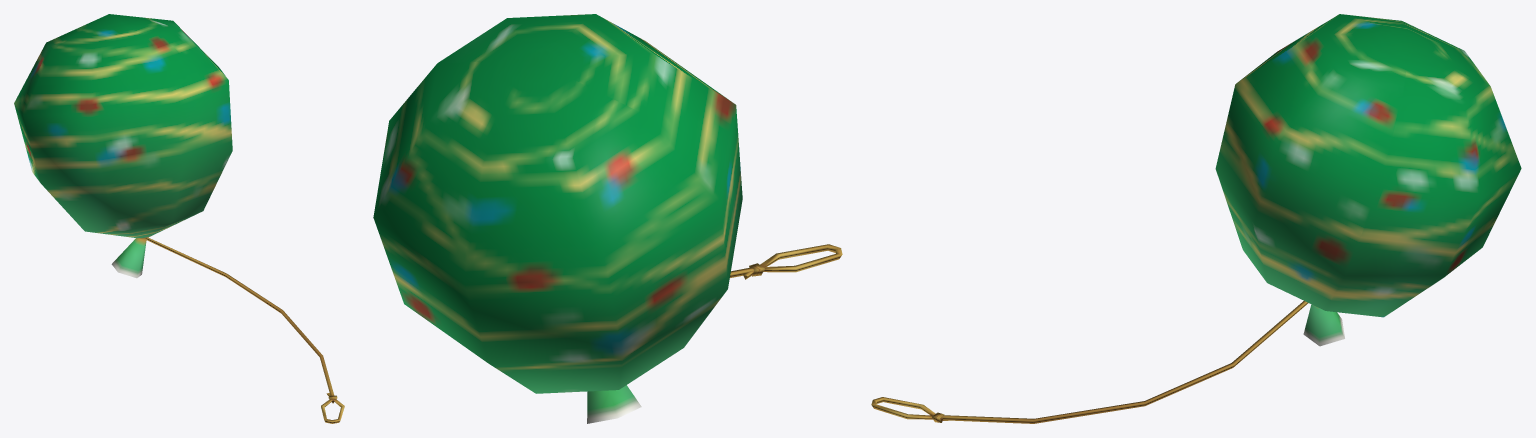
File: jsf_WaterBalloon_05_e.fbx
3 views of the same model, side by side, from view 1: azimuth 30°, elevation 25°; view 2: azimuth 150°, elevation 25°; view 3: azimuth 270°, elevation 25° (orthographic). The views are drawn at different scales.
Visible parts, largest first — view 1: jsf_WaterBalloon_05_e; view 2: jsf_WaterBalloon_05_e; view 3: jsf_WaterBalloon_05_e.
Boxes of the visible parts, x1=… form: jsf_WaterBalloon_05_e: x1=14, y1=14, x2=344, y2=423; jsf_WaterBalloon_05_e: x1=373, y1=14, x2=842, y2=423; jsf_WaterBalloon_05_e: x1=871, y1=14, x2=1521, y2=423.
Size of the model in its own units: 10.92 by 14.38 by 23.6.
